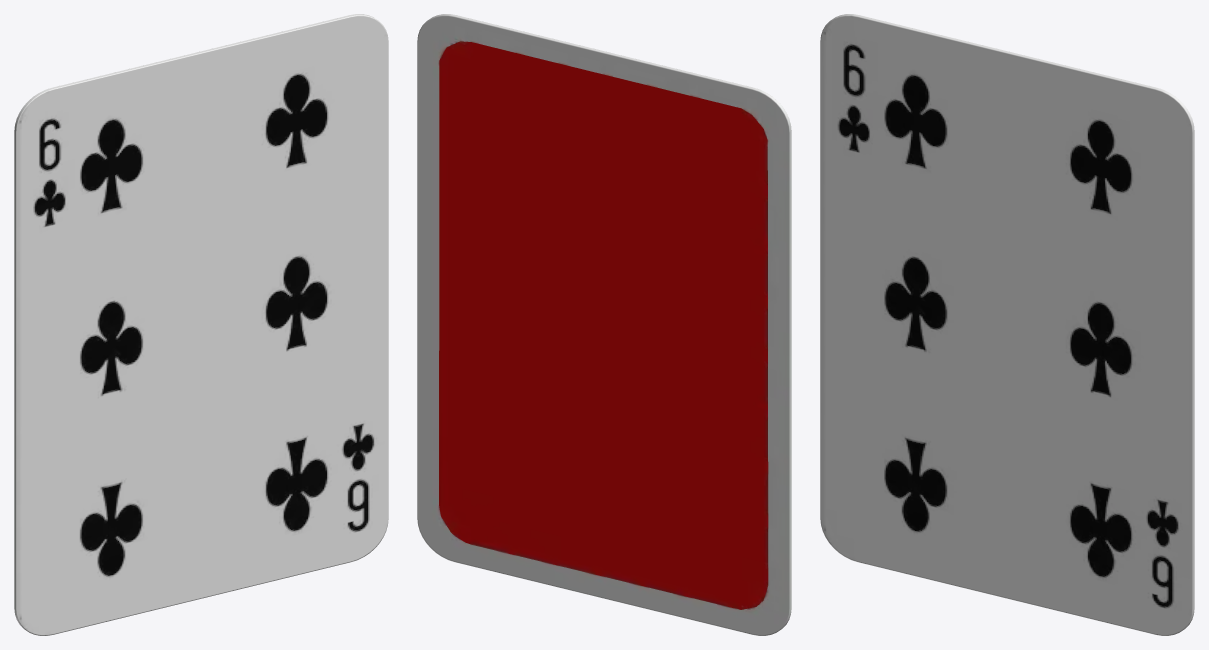
Rendered from clubs_6-transformed.glb.
The picture shows the model from 3 angles, left to right: view 1: azimuth 30°, elevation 25°; view 2: azimuth 150°, elevation 25°; view 3: azimuth 330°, elevation 25°; orthographic projection.
Visible parts, largest first — view 1: defaultMaterial.018; view 2: defaultMaterial.018; view 3: defaultMaterial.018.
Part boxes in pixels (left/top/right/bottom): defaultMaterial.018: left=14, top=14, right=388, bottom=635; defaultMaterial.018: left=417, top=14, right=791, bottom=635; defaultMaterial.018: left=820, top=14, right=1194, bottom=635.
Size of the model in its own units: 0.1408 by 0.1972 by 0.00111.
Materials: 1 (1 with a texture image).
